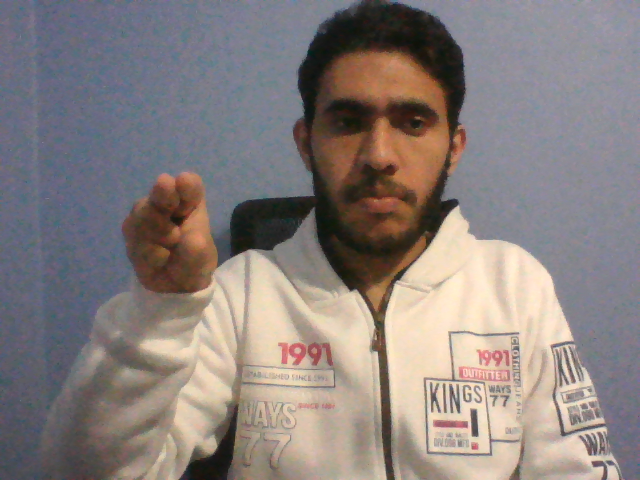no: (122, 165, 223, 303)
